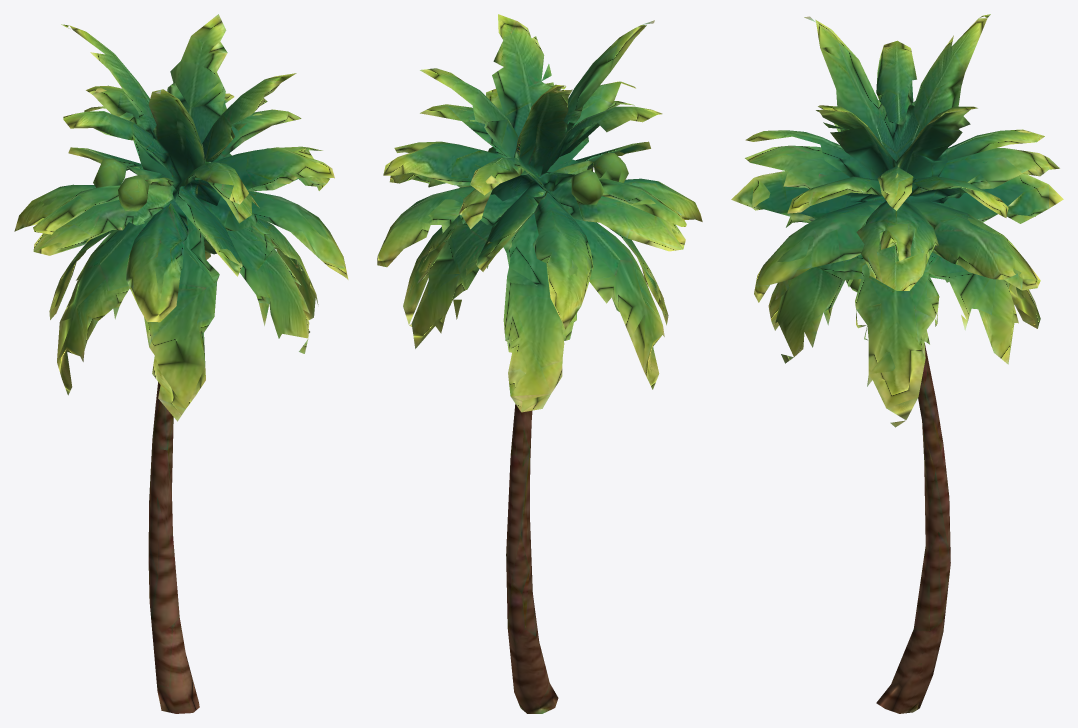
The model's file is palm.glb.
The picture shows the model from 3 angles, left to right: view 1: azimuth 30°, elevation 25°; view 2: azimuth 150°, elevation 25°; view 3: azimuth 270°, elevation 25°; orthographic projection.
Bounding box in the file's own units: 0.8764 × 1.9 × 0.868.
Materials: 1 (1 with a texture image).
